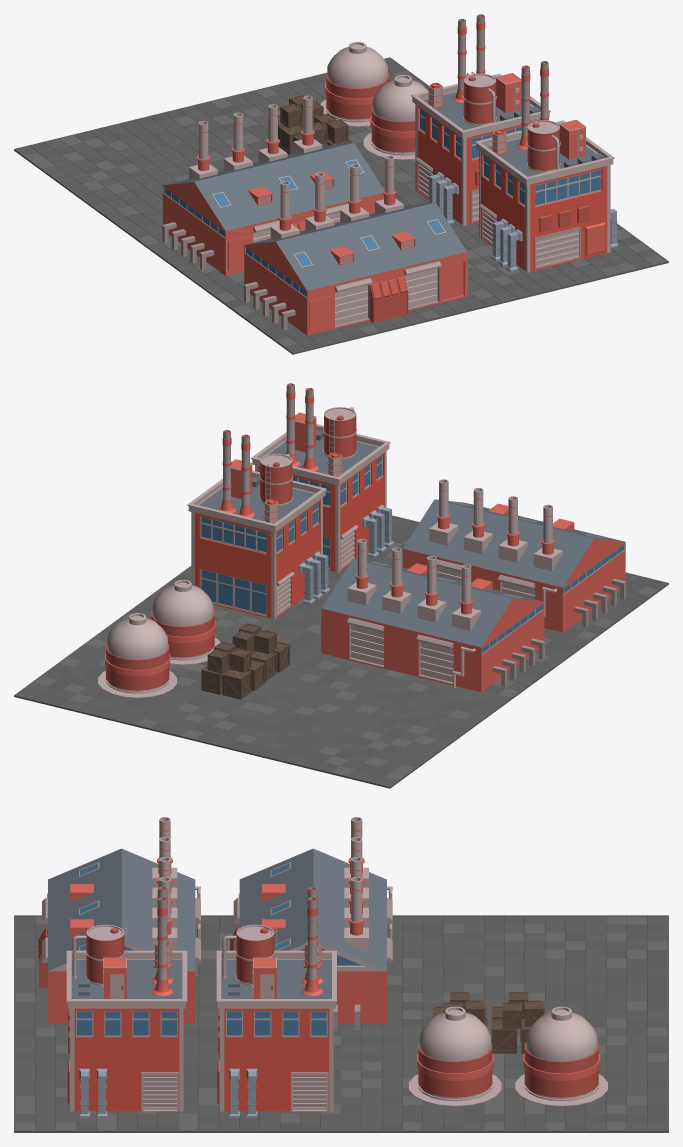
Rendered from factory.glb.
3 renders of one model, top to bottom at view 1: azimuth 30°, elevation 25°; view 2: azimuth 150°, elevation 25°; view 3: azimuth 270°, elevation 25°, orthographic. The views are drawn at different scales.
Visible parts, largest first — view 1: lpc00100.001; view 2: lpc00100.001; view 3: lpc00100.001.
Boxes of the visible parts, x1,y1,x2,y2 form: lpc00100.001: (14,14,668,354); lpc00100.001: (14,383,668,788); lpc00100.001: (14,817,668,1132).
Bounding box in the file's own units: 5.29 × 2.28 × 6.79.
